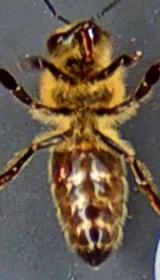varroa_mite: (50, 154, 74, 186)
